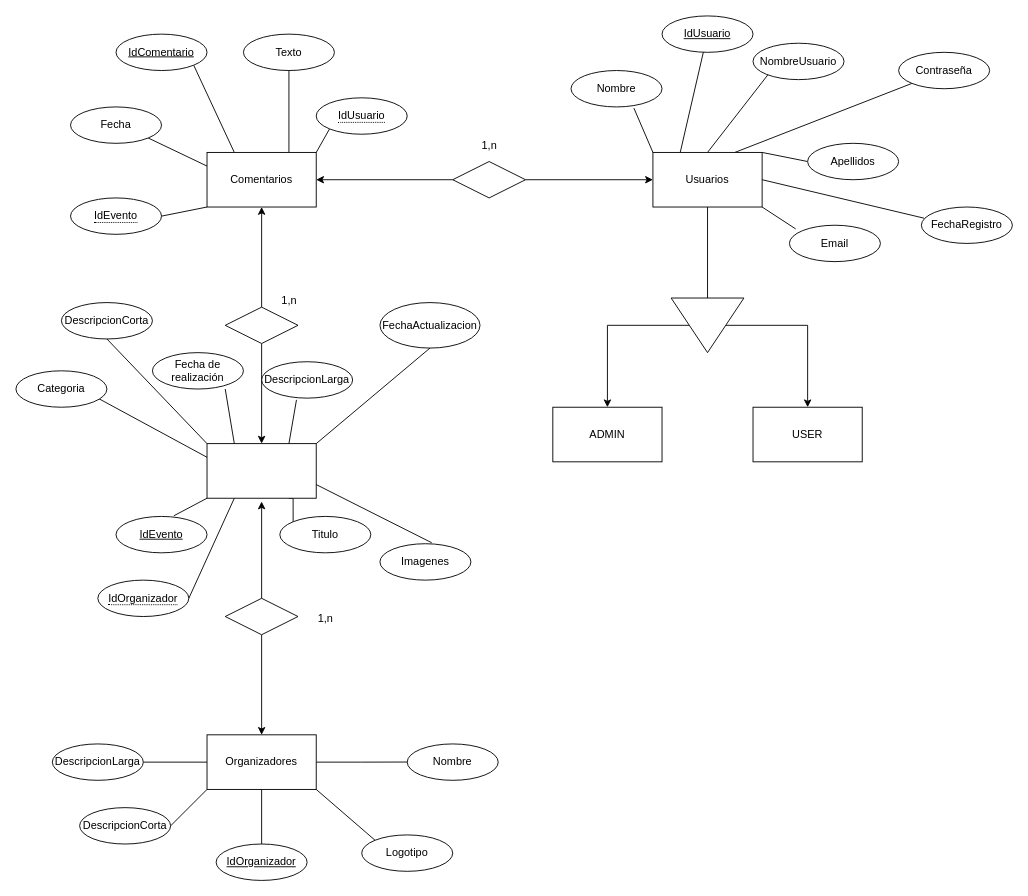
The diagram is 1028 pixels wide and 896 high, and some of its shapes have lost their labels. The shapes that lost their labels are listed below. From the top down, each one's centre as x and y in pixels, then its label:
At (x=489, y=179): "realizan".
At (x=261, y=325): "tienen".
At (x=707, y=325): "es un".
At (x=261, y=470): "Eventos".
At (x=261, y=616): "organizan".
